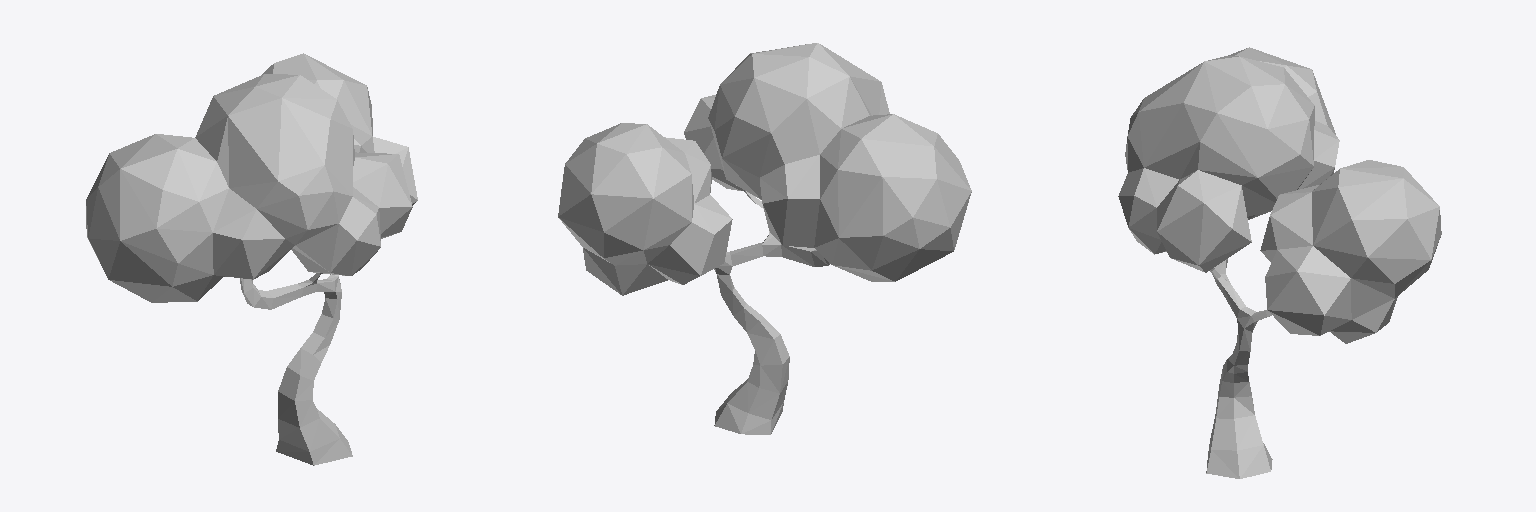
File: tree1.obj
3 renders of one model, left to right at view 1: azimuth 30°, elevation 25°; view 2: azimuth 150°, elevation 25°; view 3: azimuth 270°, elevation 25°, orthographic.
Visible parts, largest first — view 1: LowPoly_Tree_07_lowpoly_tree_04_Plane.012; view 2: LowPoly_Tree_07_lowpoly_tree_04_Plane.012; view 3: LowPoly_Tree_07_lowpoly_tree_04_Plane.012.
Part boxes in pixels (bbox=[...]): LowPoly_Tree_07_lowpoly_tree_04_Plane.012: bbox=[86, 53, 417, 465]; LowPoly_Tree_07_lowpoly_tree_04_Plane.012: bbox=[558, 43, 971, 434]; LowPoly_Tree_07_lowpoly_tree_04_Plane.012: bbox=[1118, 47, 1441, 478].
Size of the model in its own units: 3.92 by 4.05 by 3.13.